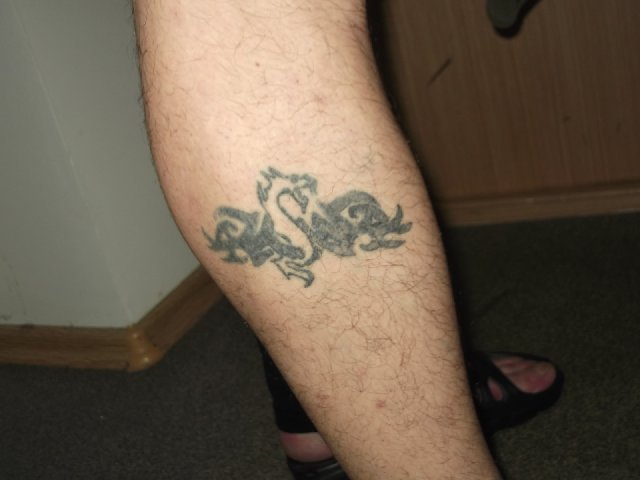tatu6_drakon: (190, 159, 419, 298)
